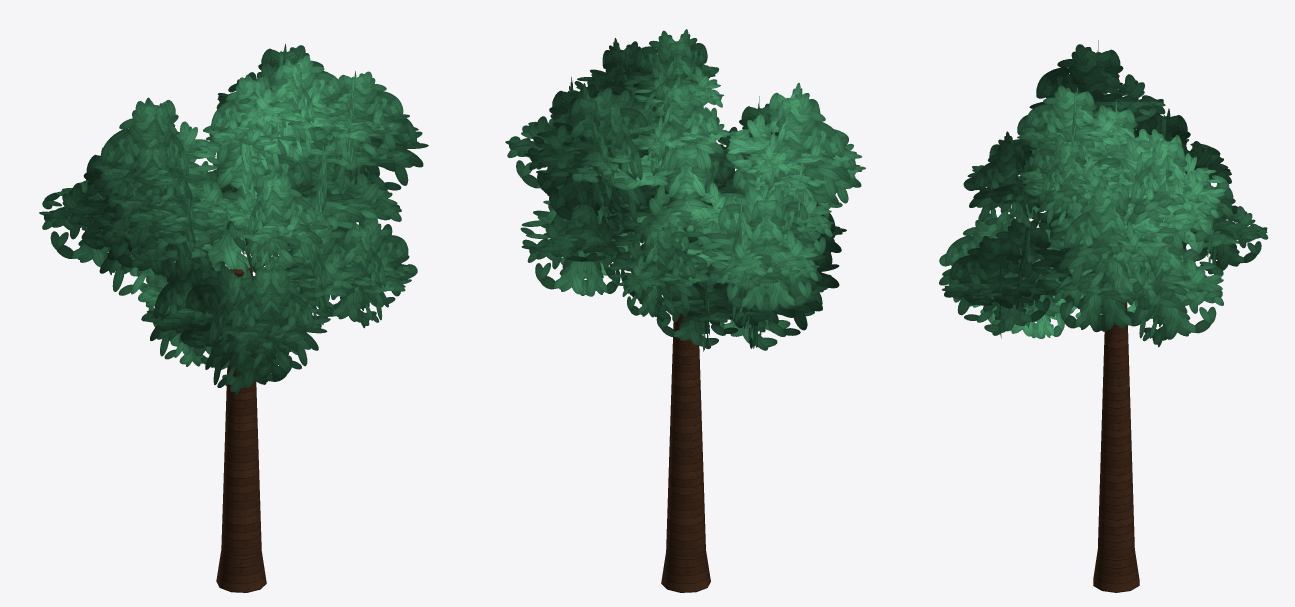
File: flora_deepwood.glb
3 views of the same model, side by side, from view 1: azimuth 30°, elevation 25°; view 2: azimuth 150°, elevation 25°; view 3: azimuth 270°, elevation 25° (orthographic). The views are drawn at different scales.
Visible parts, largest first — view 1: Crown, Trunk; view 2: Crown, Trunk; view 3: Crown, Trunk.
Boxes of the visible parts, bbox=[...] form: Crown: bbox=[39, 44, 428, 394]; Trunk: bbox=[216, 268, 266, 592]; Crown: bbox=[505, 29, 865, 351]; Trunk: bbox=[661, 313, 710, 592]; Crown: bbox=[939, 40, 1268, 347]; Trunk: bbox=[1093, 303, 1139, 592].
Bounding box in the file's own units: 8.75 × 11.57 × 7.46.
Materials: 2 (2 with a texture image).
